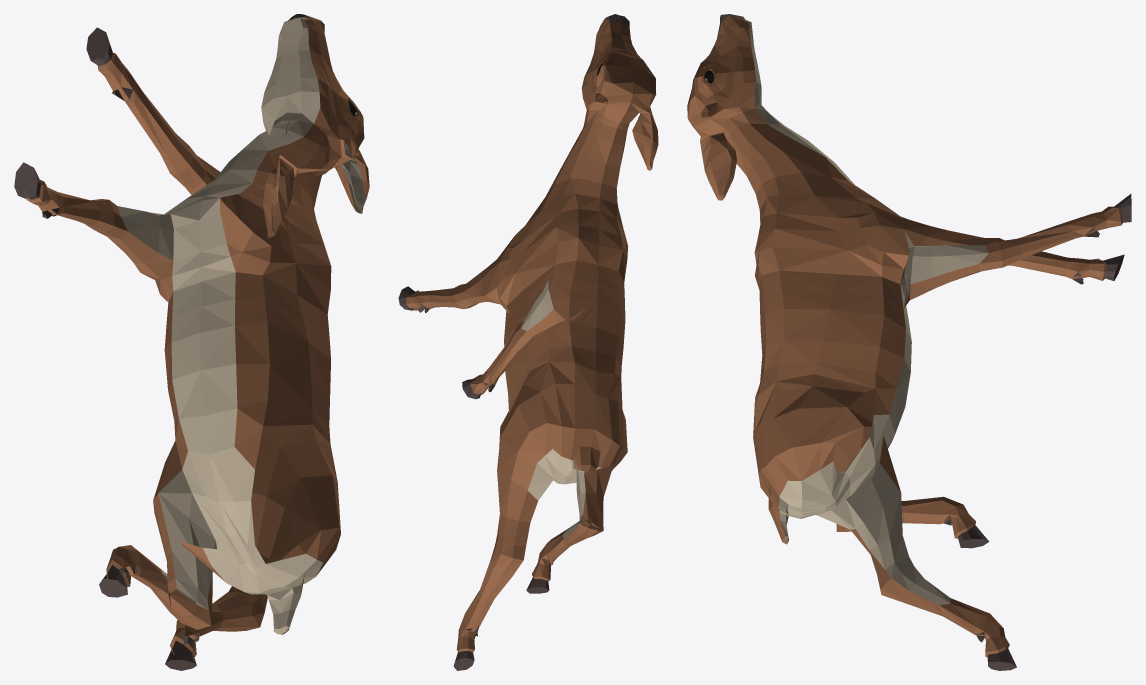
The model's file is deer-gallop-0.glb.
3 renders of one model, left to right at view 1: azimuth 30°, elevation 25°; view 2: azimuth 150°, elevation 25°; view 3: azimuth 270°, elevation 25°, orthographic. The views are drawn at different scales.
Size of the model in its own units: 0.3975 by 1.99 by 1.26.
